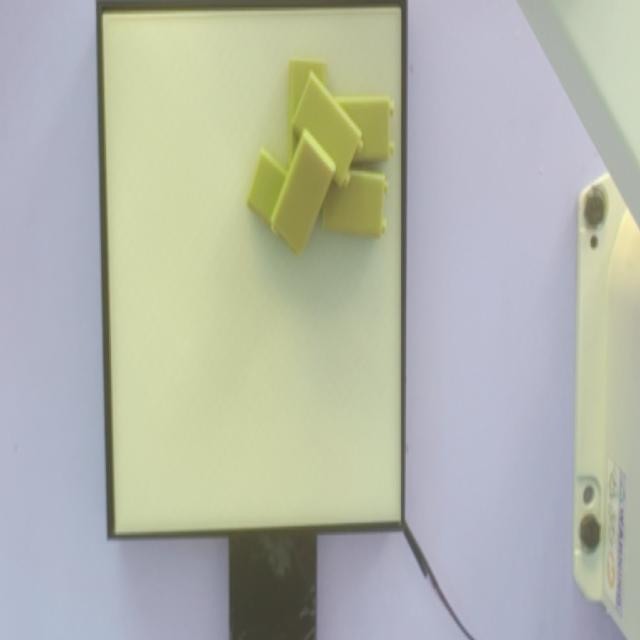bateria: (270, 132, 338, 260)
mesa: (96, 0, 408, 541)
